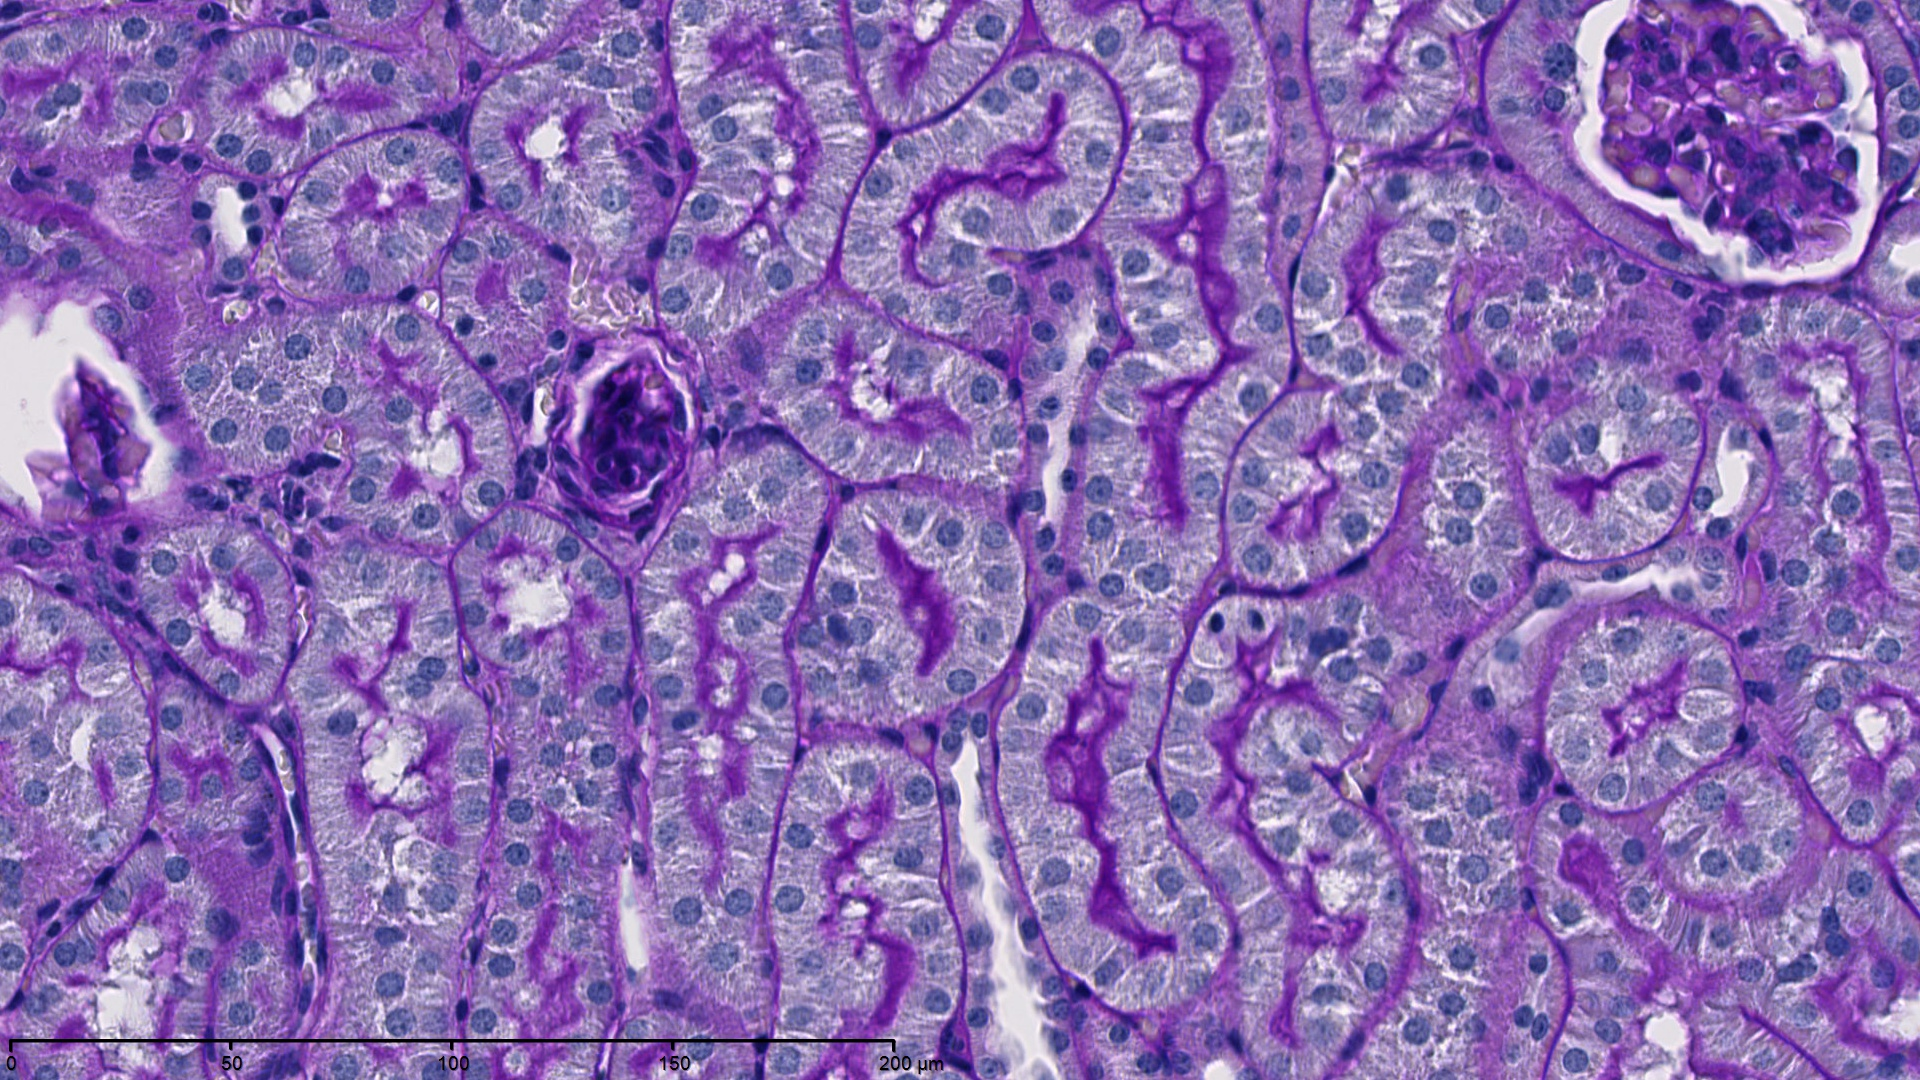Glomeruli: (1585, 1, 1884, 284), (524, 326, 723, 542)
